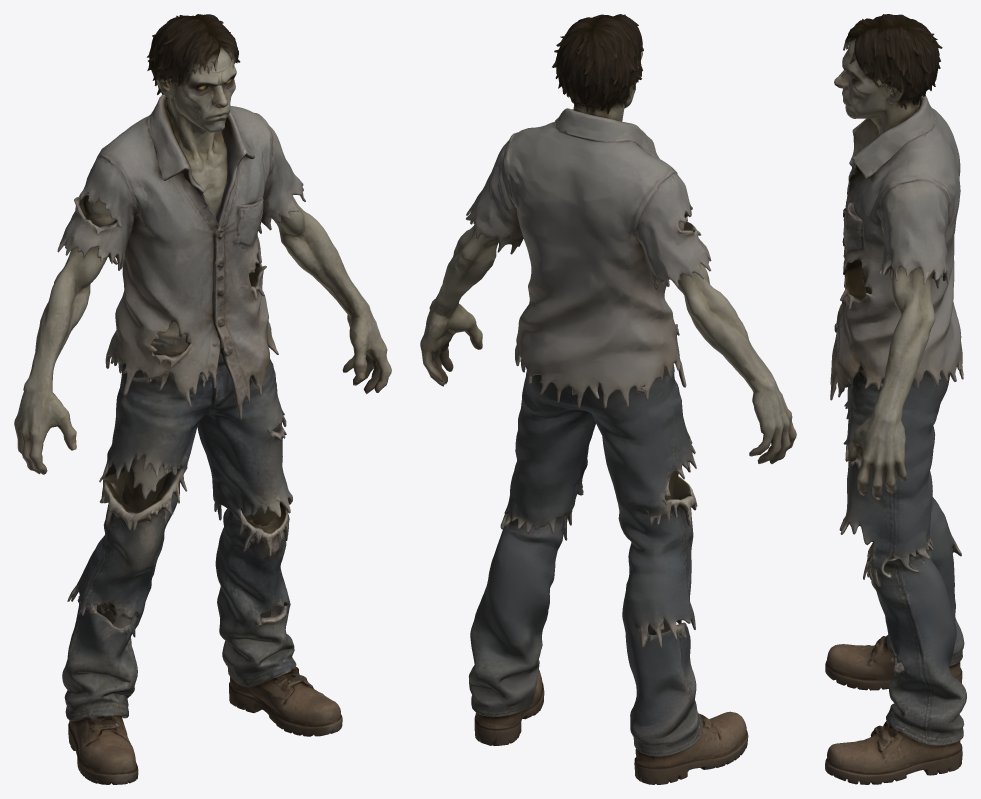
File: zombie_static_front.glb
3 views of the same model, side by side, from view 1: azimuth 30°, elevation 25°; view 2: azimuth 150°, elevation 25°; view 3: azimuth 270°, elevation 25° (orthographic).
Visible parts, largest first — view 1: tripo_node_77431387-1a04-4bff-b51c-579d1073cd7a; view 2: tripo_node_77431387-1a04-4bff-b51c-579d1073cd7a; view 3: tripo_node_77431387-1a04-4bff-b51c-579d1073cd7a.
Part boxes in pixels (x1,y1,x2,y2): tripo_node_77431387-1a04-4bff-b51c-579d1073cd7a: [14, 14, 391, 784]; tripo_node_77431387-1a04-4bff-b51c-579d1073cd7a: [420, 14, 796, 784]; tripo_node_77431387-1a04-4bff-b51c-579d1073cd7a: [825, 14, 966, 784].
Size of the model in its own units: 0.9183 by 1.75 by 0.3177.
1 material, 1 textured.
